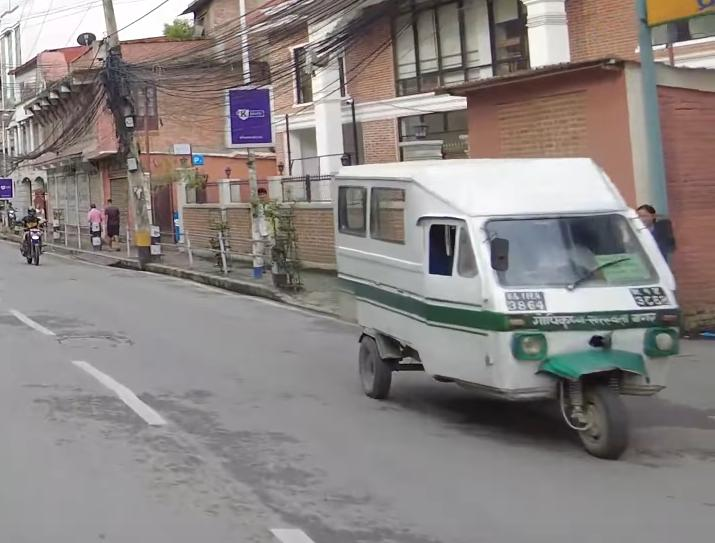bike: (17, 218, 48, 271)
tempo: (322, 146, 689, 469)
